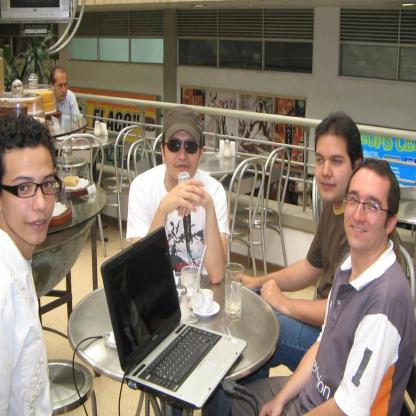board: (96, 226, 247, 413)
